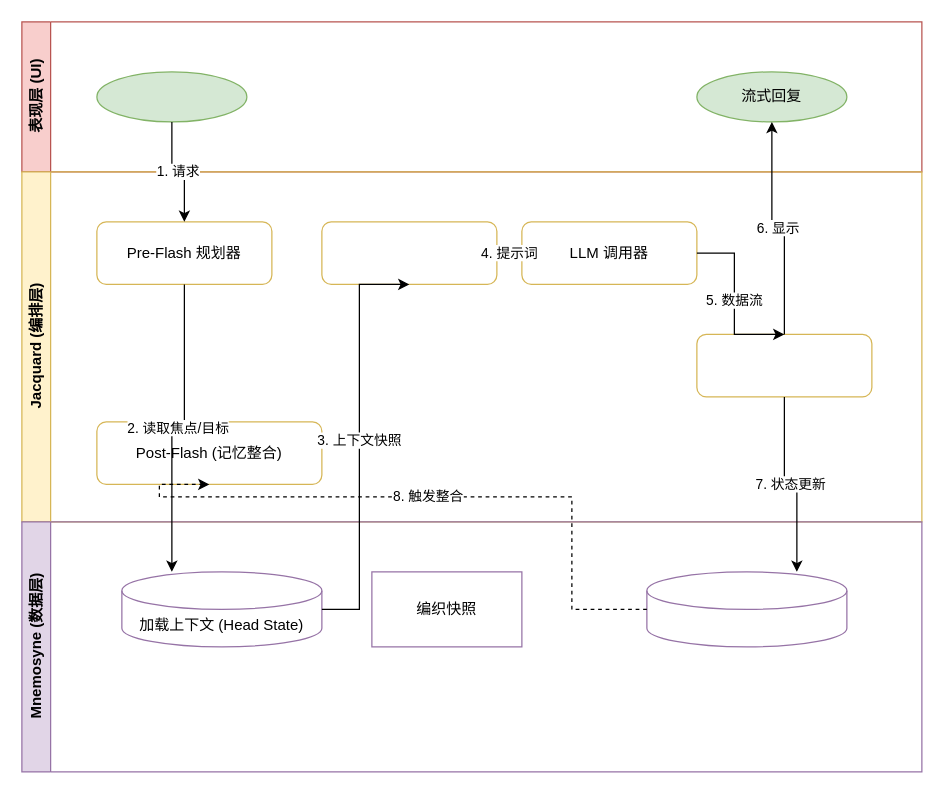
The diagram is 944 pixels wide and 794 high, and some of its shapes have lost their labels. The centre of each missing label's shape, as x and y in pixels:
Filament 解析器: point 784,365
Skein 构建器: point 409,252
写入状态 (OpLog): point 746,609
用户输入: point 171,96
